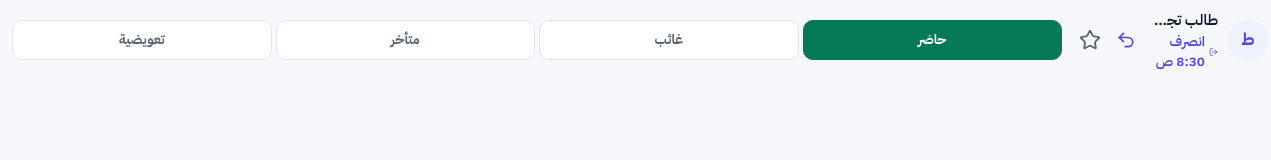
StudentRow — تأكيد مسح الانصراف بخطوتين (3A-911) › الضغطة الأولى على زر التراجع تُسلّح فقط ولا تمسح
Click the button named "تراجع" at (1126, 40), box [1108,22,1144,58]
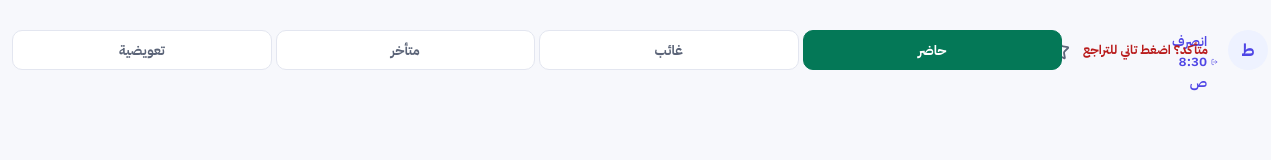
Now the button "متأكد؟ اضغط تاني للتراجع" is shown, box [1077,32,1214,68]
